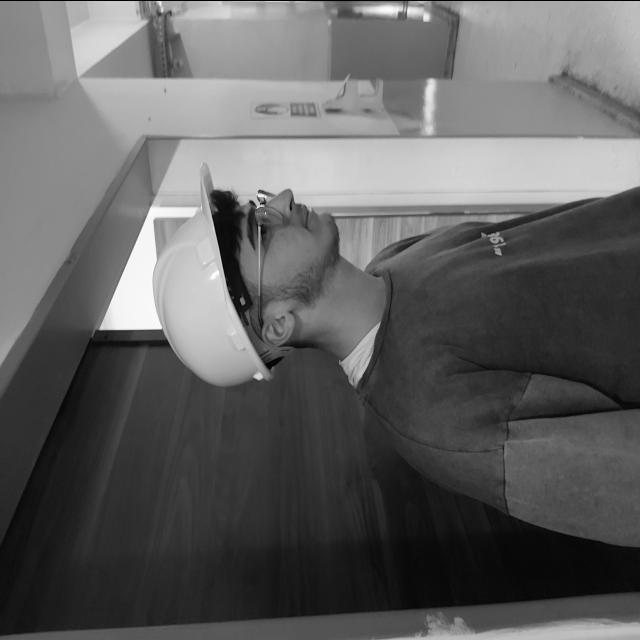safety_helmet: (154, 163, 290, 387)
